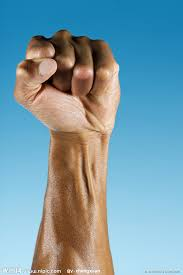fist: (12, 28, 123, 139)
